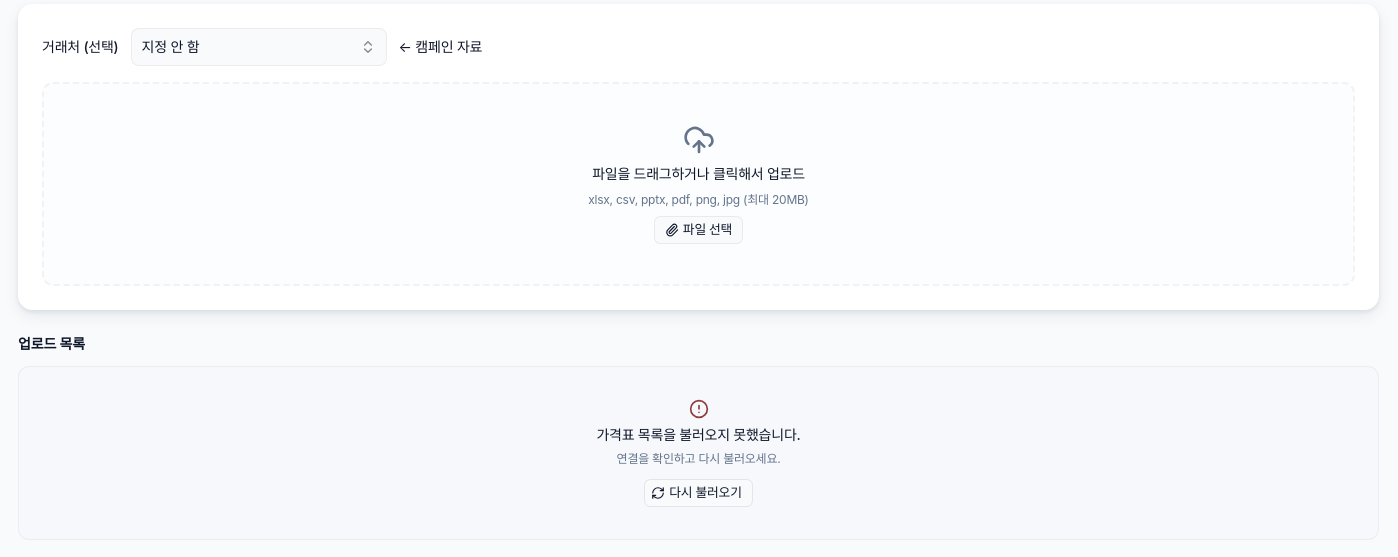
Test: PriceSheetList — 목록 조회 실패는 빈 목록이 아니다 › 조회가 실패하면 복구 안내를 보이고, 「다시 불러오기」가 성공하면 진짜 빈 목록을 보인다
The image size is (1398, 557).
expect the message shows "가격표 목록을 불러오지 못했습니다.": met, box [596,426,801,443]
expect the text "업로드된 가격표 없음" is not shown: met
Click the button "다시 불러오기": (698, 493) [644,479,753,507]
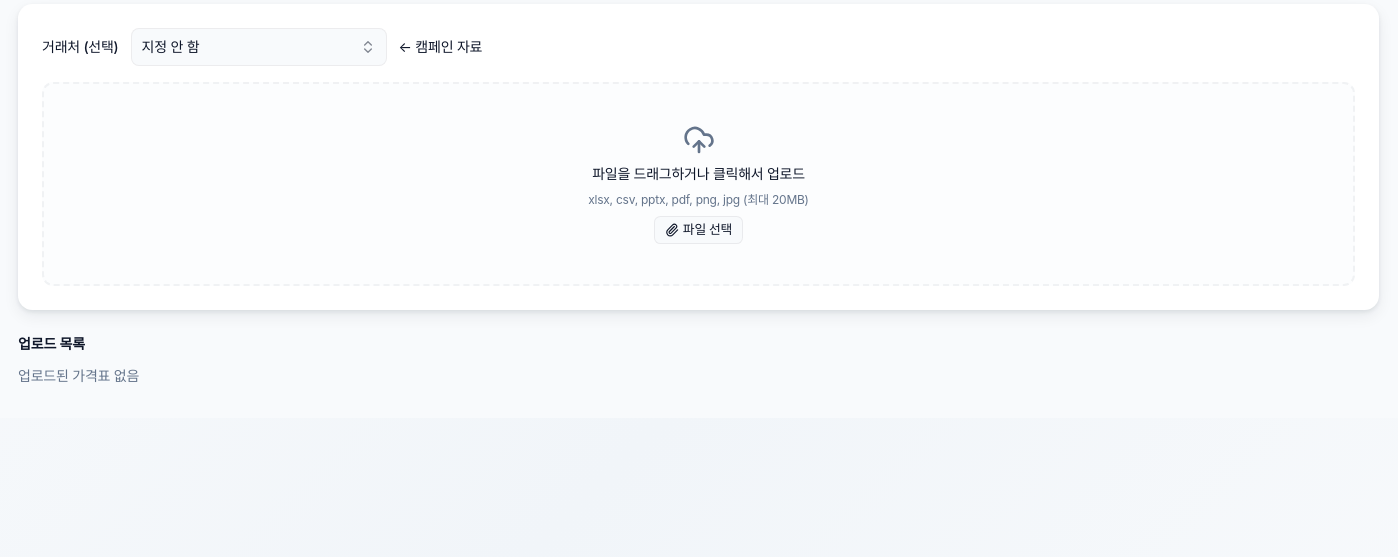
expect the text "업로드된 가격표 없음" is shown: met, box [18,367,139,384]
expect the message "가격표 목록을 불러오지 못했습니다. 연결을 확인하고 다시 불러오세요. 다시 불러오기" is gone: met
